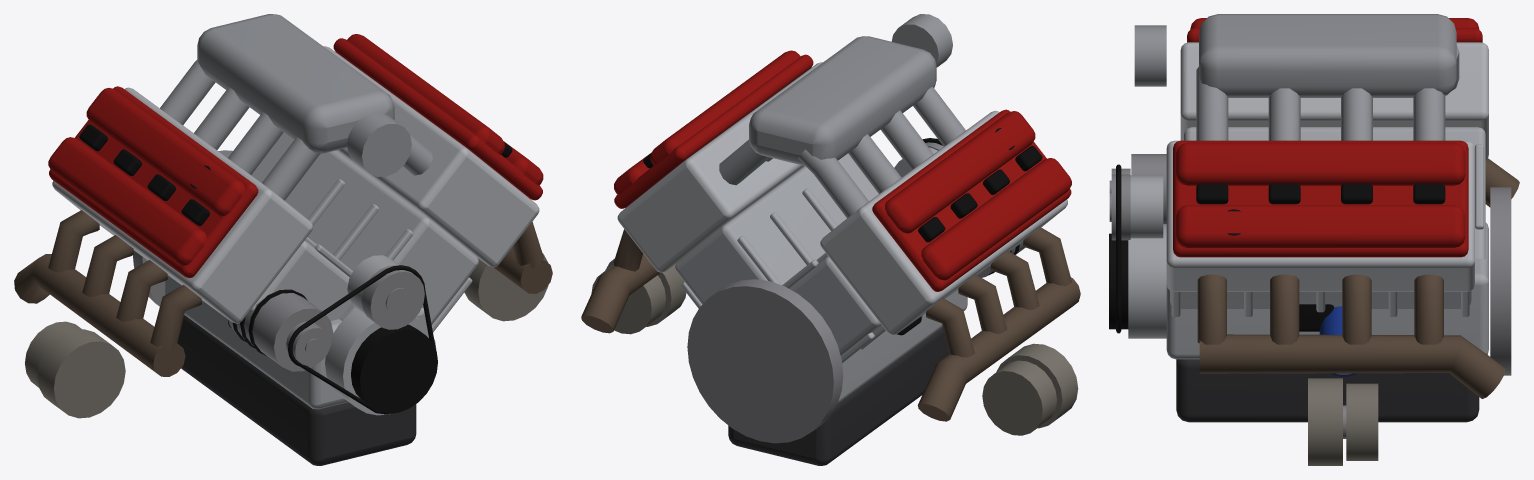
The model's file is hyper_v8_one1_audio.glb.
3 renders of one model, left to right at view 1: azimuth 30°, elevation 25°; view 2: azimuth 150°, elevation 25°; view 3: azimuth 270°, elevation 25°, orthographic. The views are drawn at different scales.
Parts seen in each view (by area): view 1: hyper_v8_one1_audio; view 2: hyper_v8_one1_audio; view 3: hyper_v8_one1_audio.
Part boxes in pixels (x1,y1,x2,y2): hyper_v8_one1_audio: [14, 14, 552, 465]; hyper_v8_one1_audio: [581, 14, 1080, 465]; hyper_v8_one1_audio: [1109, 14, 1519, 465].
Size of the model in its own units: 0.9388 by 0.6398 by 0.6425.
